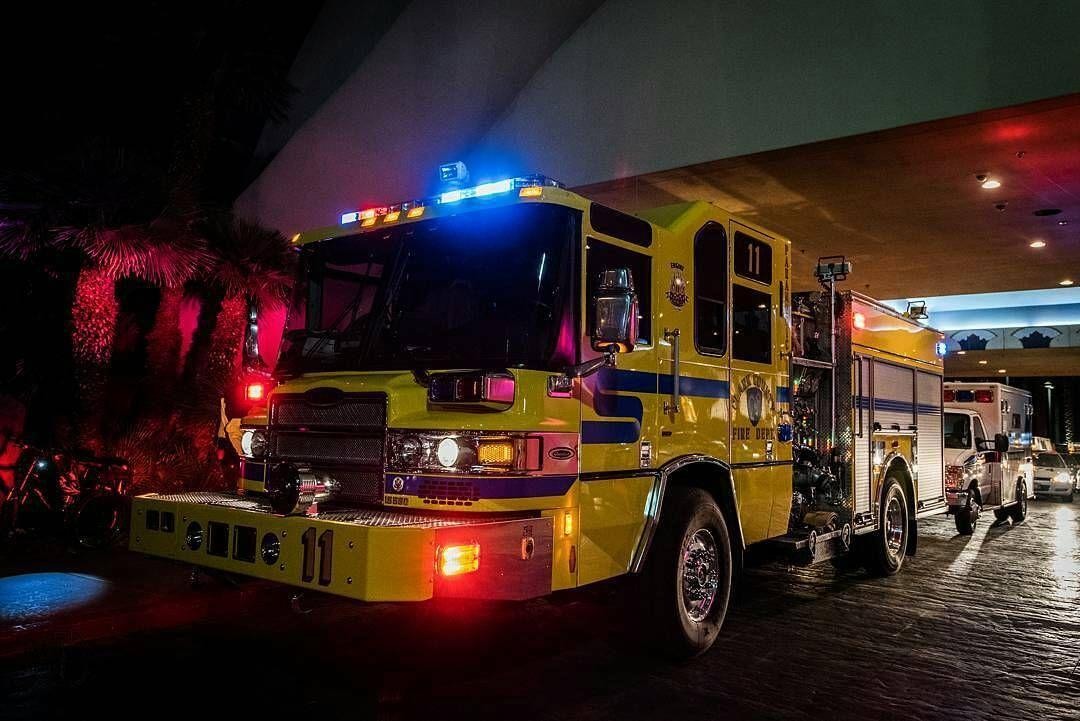ambulance_off: (943, 377, 1033, 534)
firetruck_on: (123, 176, 948, 655)
